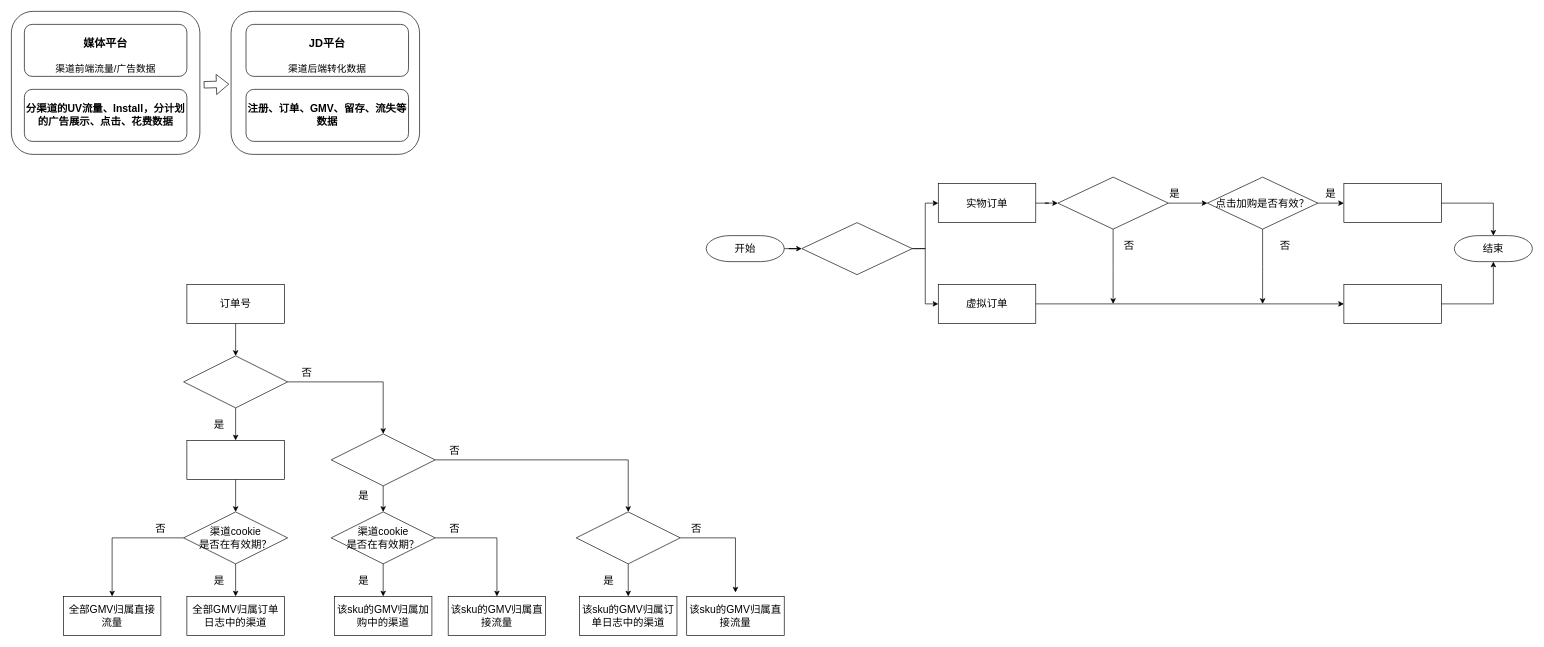
The diagram is 1544 pixels wide and 647 high, and some of its shapes have lost their labels. The centre of each missing label's shape, as x and y in pixels:
mainsku下单前3天 是否有点击加购？: (x=1112, y=202)
mainsku是否 有加购日志？: (x=383, y=459)
实物or虚拟订单？: (x=856, y=248)
末次加购JDV渠道: (x=1392, y=203)
直接订单？: (x=235, y=381)
订单日志JDV渠道: (x=1392, y=303)
订单日志抽取渠道: (x=235, y=459)
订单日志渠道cookie 是否在有效期？: (x=628, y=537)
